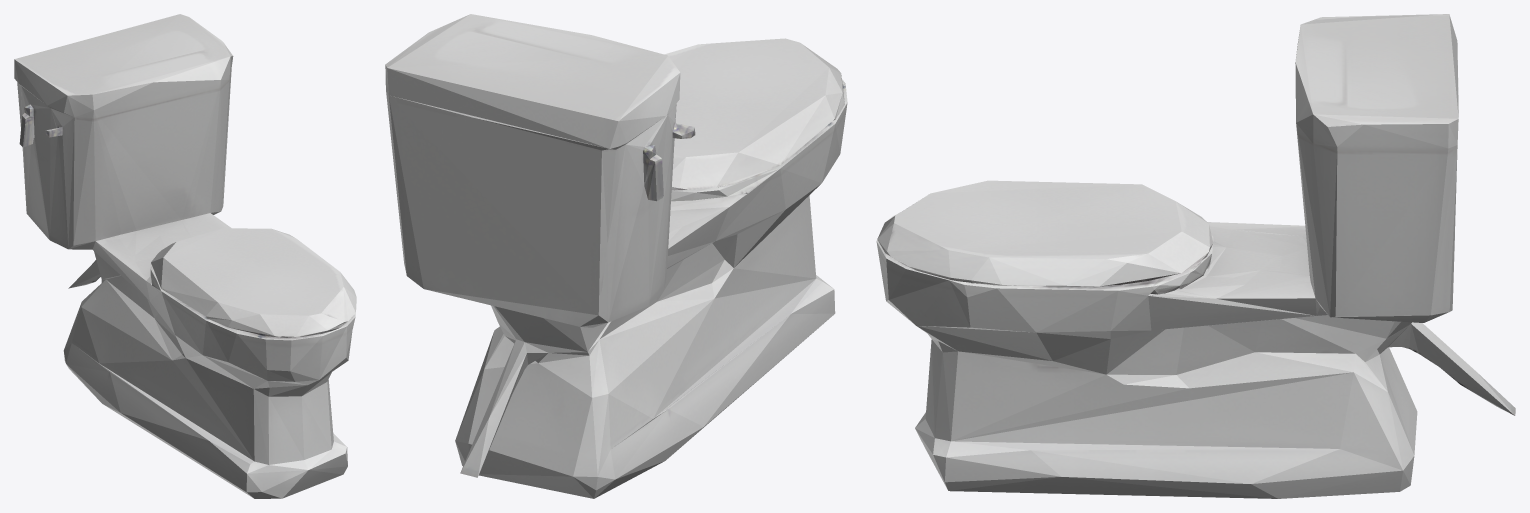
The model's file is toilet.glb.
The picture shows the model from 3 angles, left to right: view 1: azimuth 30°, elevation 25°; view 2: azimuth 150°, elevation 25°; view 3: azimuth 270°, elevation 25°; orthographic projection. The views are drawn at different scales.
Visible parts, largest first — view 1: geometry_0; view 2: geometry_0; view 3: geometry_0.
Boxes of the visible parts, x1,y1,x2,y2 form: geometry_0: (14, 14, 356, 498); geometry_0: (385, 14, 847, 498); geometry_0: (876, 14, 1515, 498).
Bounding box in the file's own units: 0.4354 × 0.6814 × 0.9975.
Materials: 1 (1 with a texture image).
